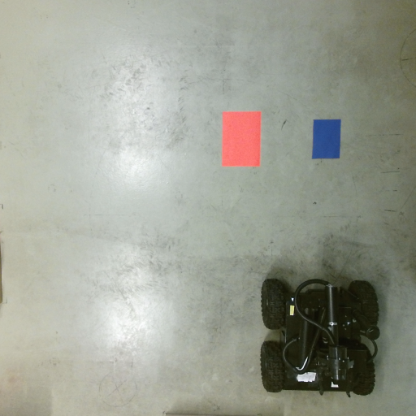Blue: (310, 118, 343, 162)
Jaguar: (258, 276, 381, 400)
Red: (219, 111, 262, 168)
